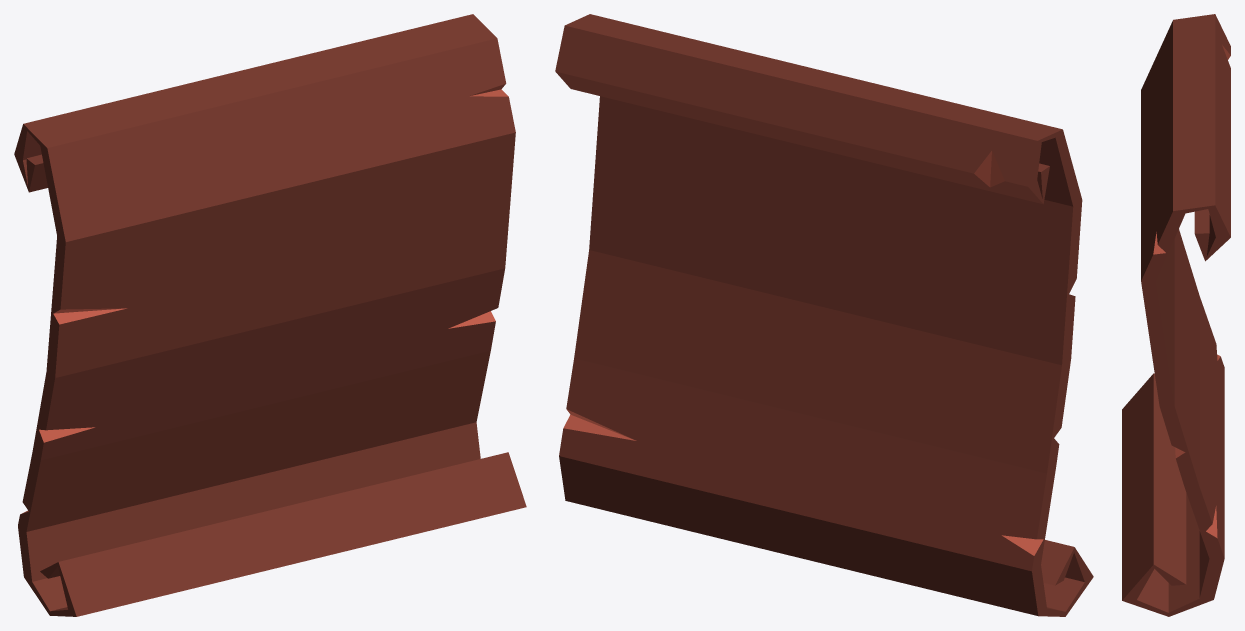
The model's file is Parchment_1_Red.fbx.
3 renders of one model, left to right at view 1: azimuth 30°, elevation 25°; view 2: azimuth 150°, elevation 25°; view 3: azimuth 270°, elevation 25°, orthographic. The views are drawn at different scales.
Visible parts, largest first — view 1: Parchment_1_Red_Part_1, Parchment_1_Red_Part_2; view 2: Parchment_1_Red_Part_1, Parchment_1_Red_Part_2; view 3: Parchment_1_Red_Part_1, Parchment_1_Red_Part_2.
Boxes of the visible parts, <box> form: Parchment_1_Red_Part_1: <box>14,14,526,616</box>; Parchment_1_Red_Part_2: <box>21,84,508,513</box>; Parchment_1_Red_Part_1: <box>555,14,1093,616</box>; Parchment_1_Red_Part_2: <box>563,151,1043,555</box>; Parchment_1_Red_Part_1: <box>1122,14,1230,616</box>; Parchment_1_Red_Part_2: <box>1153,45,1230,538</box>.
Bounding box in the file's own units: 30 × 30.1 × 7.22.
